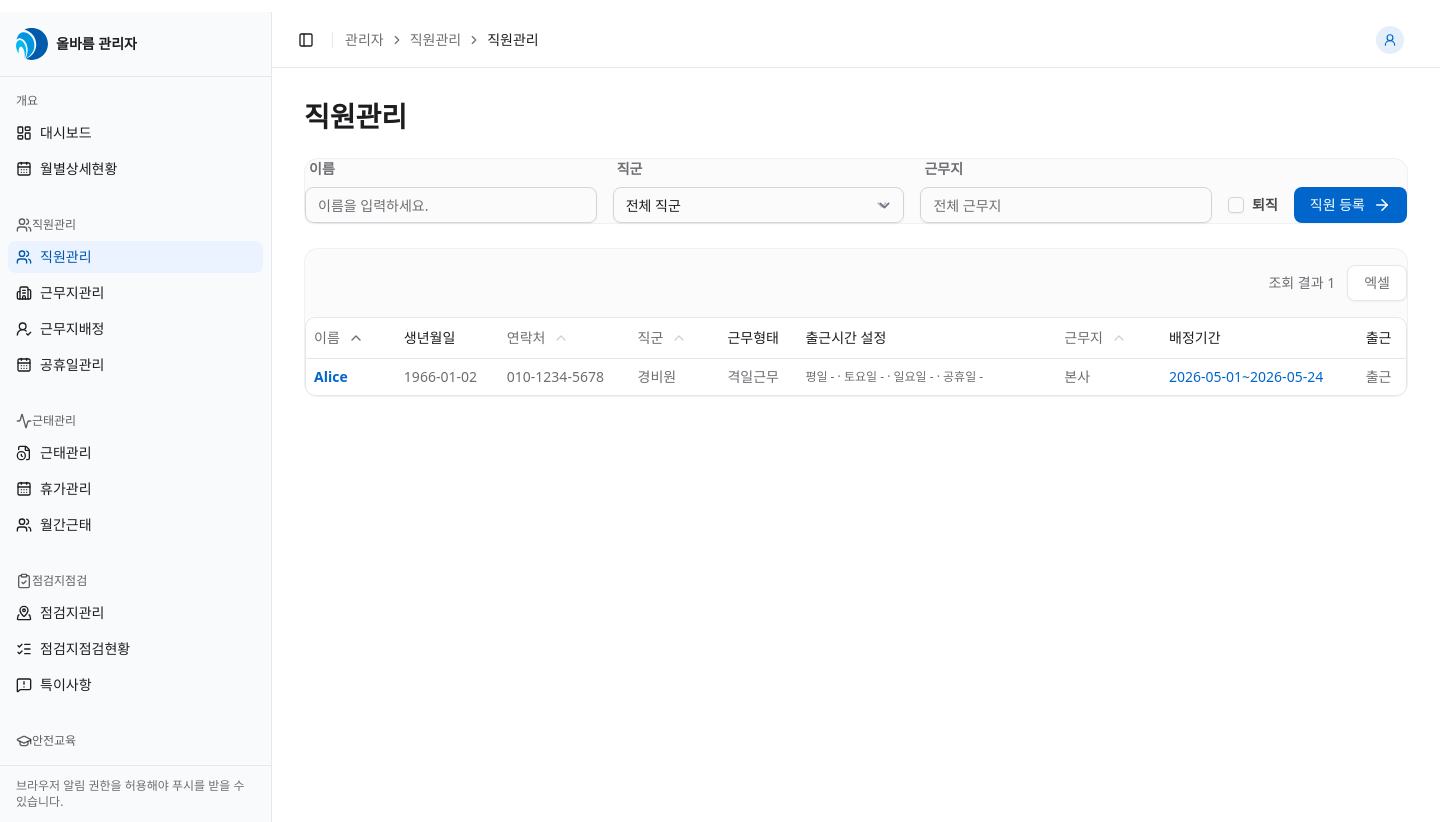
Scenario: employee roster page › renders the employee roster page and supports search
The image size is (1440, 822).
Check: the heading "직원관리" is shown, box 304,97 -> 407,135
Check: the button "직원 등록" is shown, box 1294,187 -> 1407,223
Click the checkbox named "퇴직": {"x": 1236, "y": 205} 1228,197 -> 1244,213
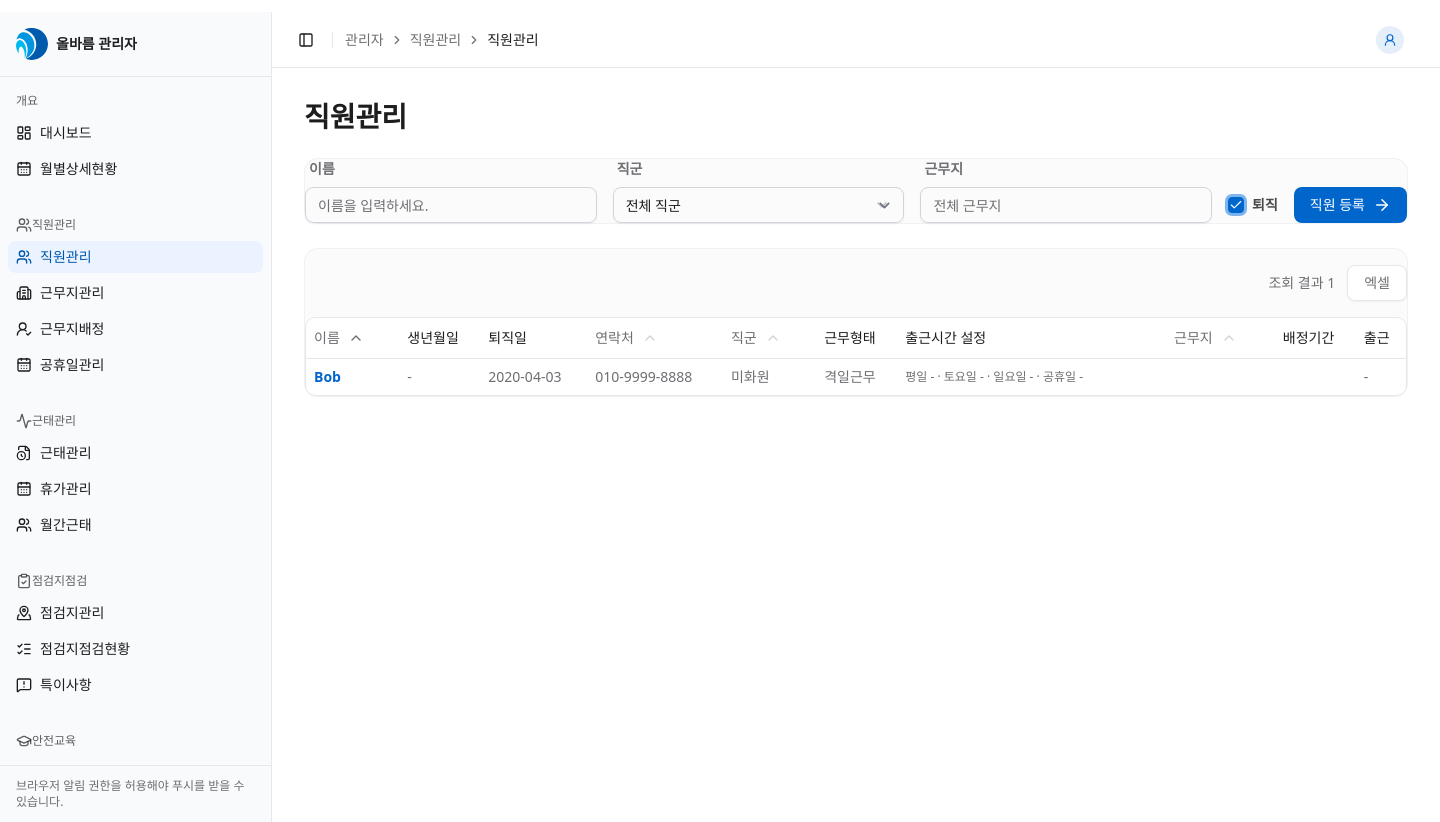
Check: the column heading "퇴직일" is shown, box 480,318 -> 587,358
In the field labelled "이름": {"x": 451, "y": 205} 305,187 -> 597,223, type "ob"
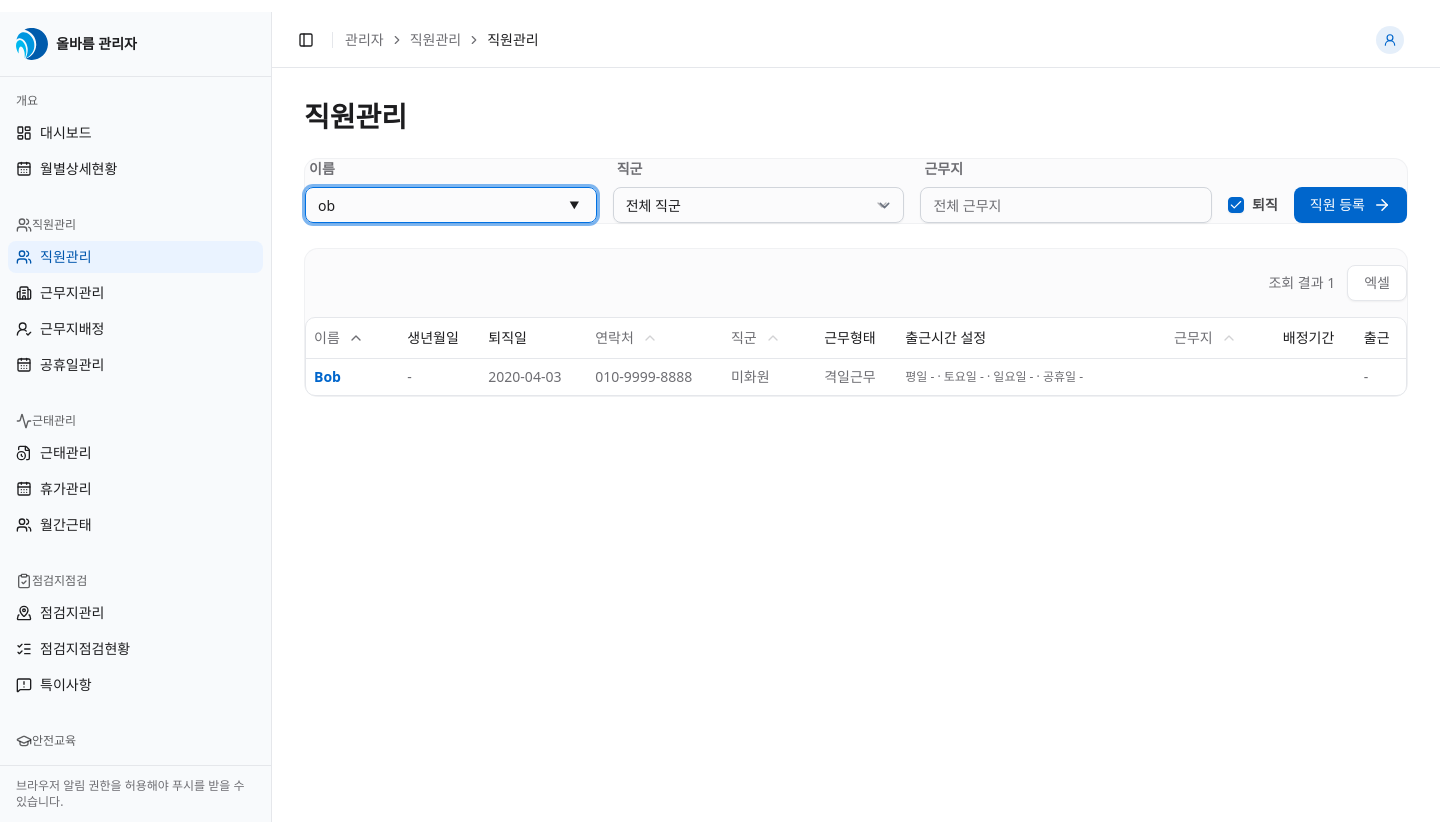
Check: the link "Bob" is shown, box 314,367 -> 341,386
Check: the text "2020-04-03" is shown, box 480,358 -> 587,395
Check: the row "Bob" is shown, box 306,358 -> 1406,395
Click the checkbox named "퇴직": {"x": 1236, "y": 205} 1228,197 -> 1244,213
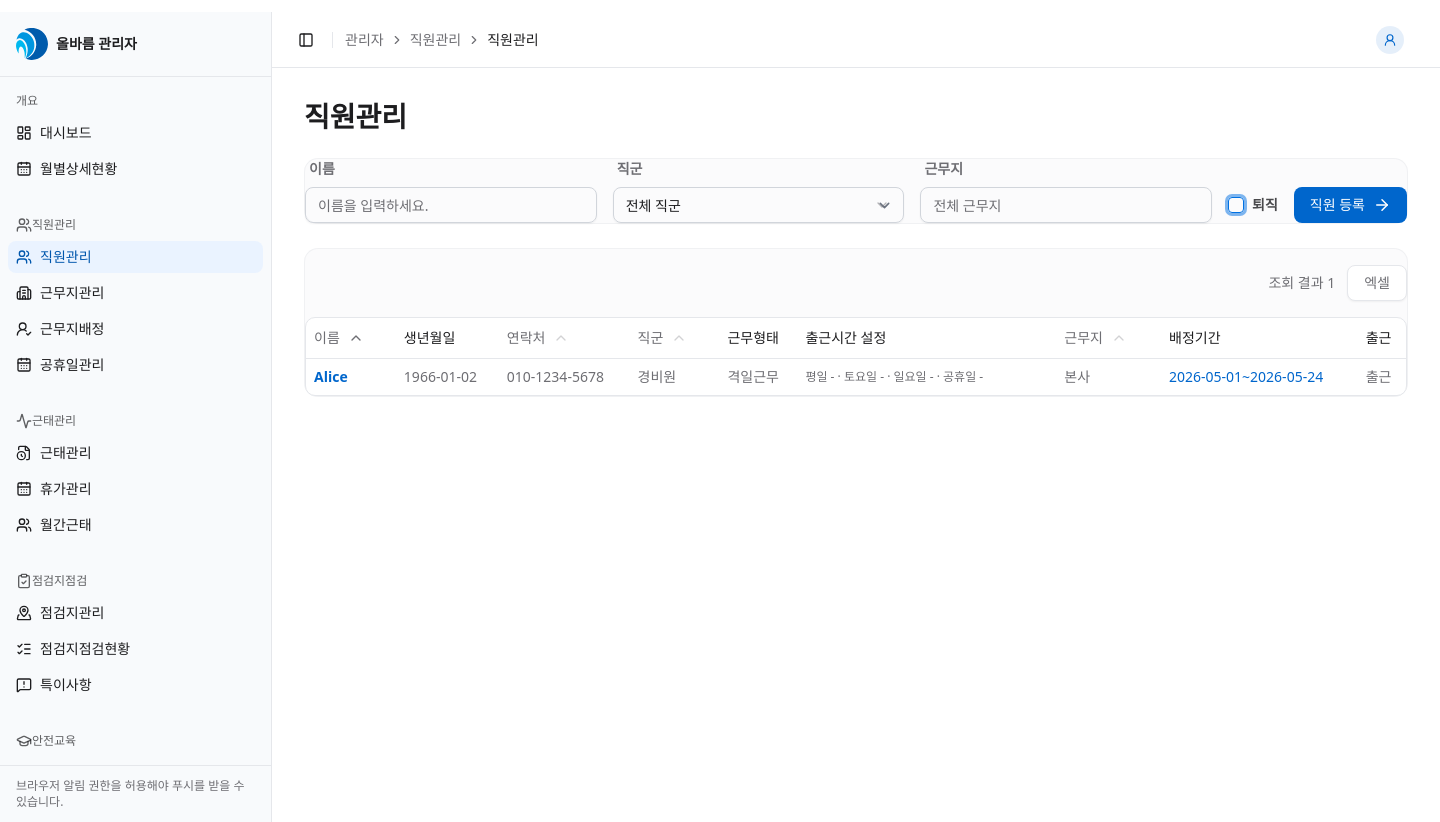
Check: the column heading "퇴직일" is gone
